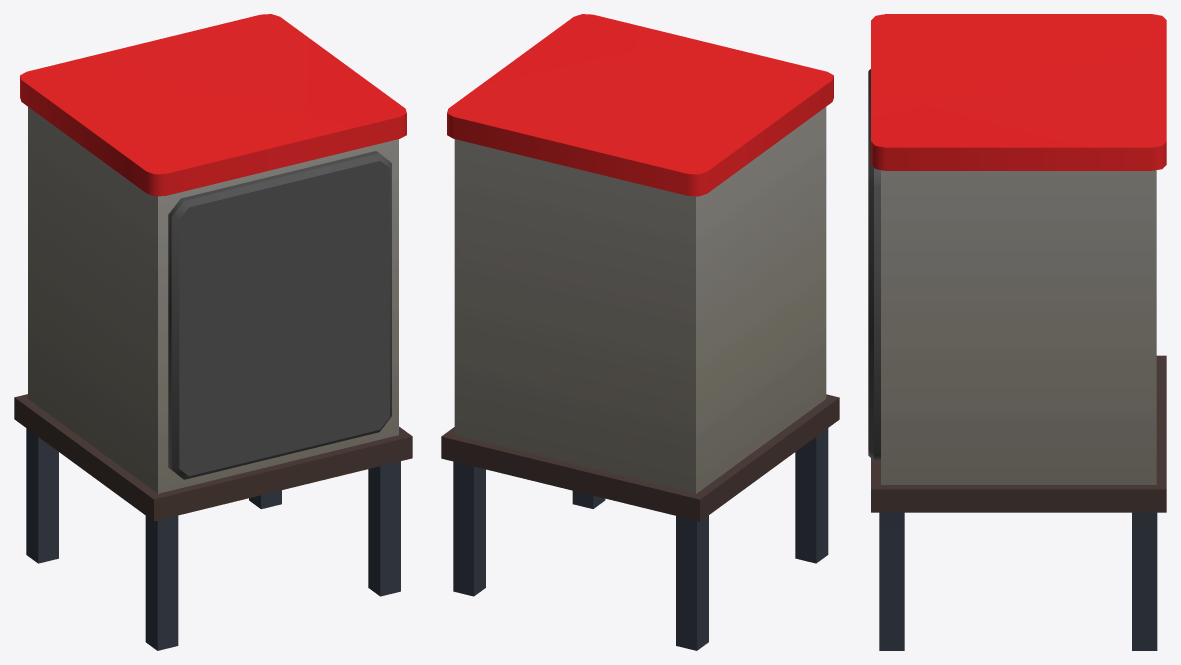
Rendered from ElectricBox_1_A_1.fbx.
3 views of the same model, side by side, from view 1: azimuth 30°, elevation 25°; view 2: azimuth 150°, elevation 25°; view 3: azimuth 270°, elevation 25° (orthographic). The views are drawn at different scales.
Visible parts, largest first — view 1: ElectricBox_1_A_1; view 2: ElectricBox_1_A_1; view 3: ElectricBox_1_A_1.
Part boxes in pixels (box(x1,y1,x2,y2)): ElectricBox_1_A_1: box(14, 14, 412, 650); ElectricBox_1_A_1: box(441, 14, 839, 650); ElectricBox_1_A_1: box(868, 14, 1166, 650).
Bounding box in the file's own units: 129 × 229 × 122.
